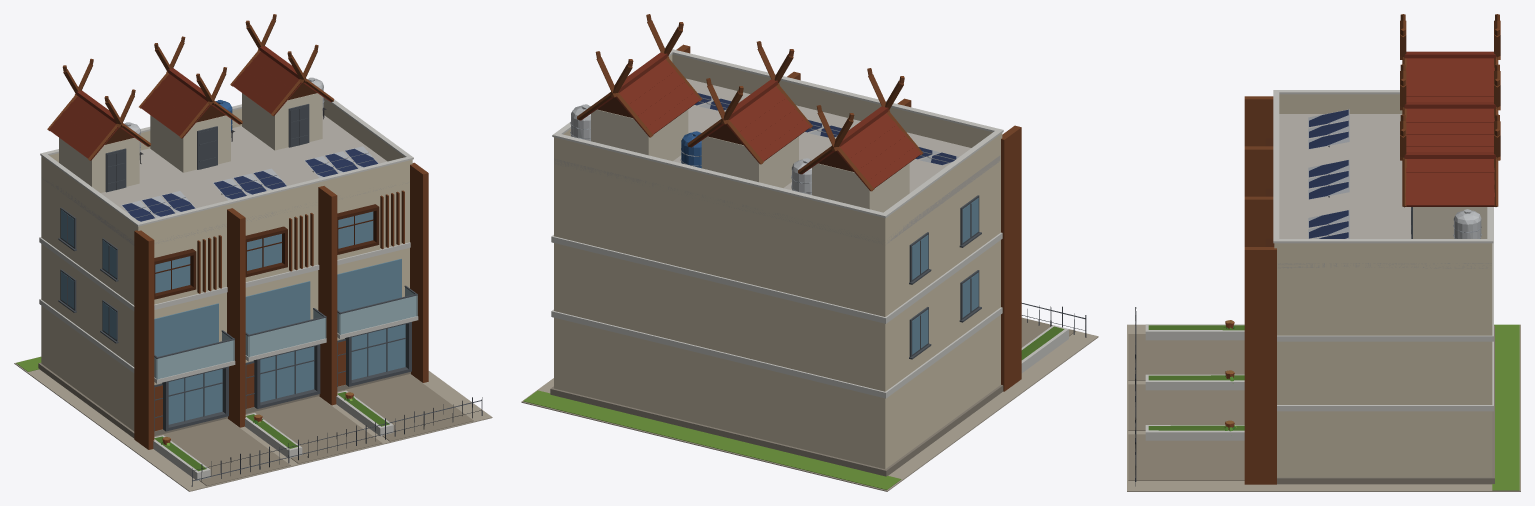
The model's file is home_3.glb.
3 renders of one model, left to right at view 1: azimuth 30°, elevation 25°; view 2: azimuth 150°, elevation 25°; view 3: azimuth 270°, elevation 25°, orthographic. The views are drawn at different scales.
Visible parts, largest first — view 1: body; view 2: body; view 3: body.
Boxes of the visible parts, <box> form: body: <box>14,14,492,491</box>; body: <box>521,14,1098,491</box>; body: <box>1127,14,1520,491</box>.
Size of the model in its own units: 15.9 by 14.84 by 15.9.
